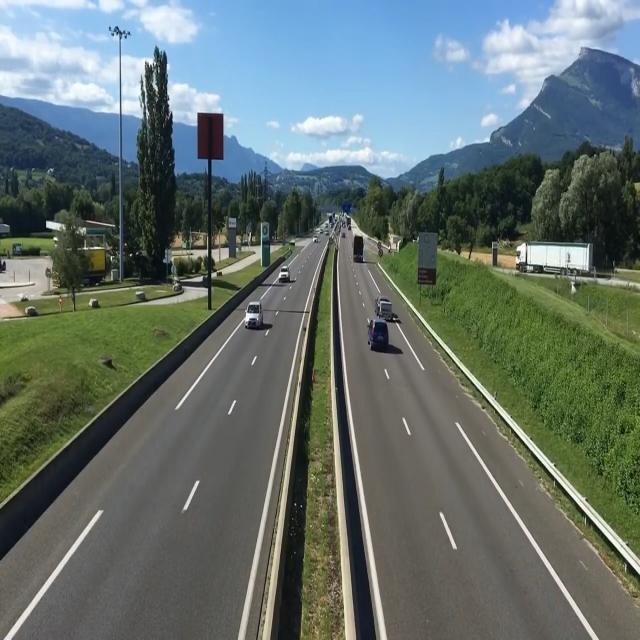car: (242, 299, 270, 335), (371, 293, 396, 320), (370, 317, 389, 352), (274, 262, 292, 284), (311, 236, 321, 247)
truck: (516, 241, 592, 278), (352, 226, 366, 265)
